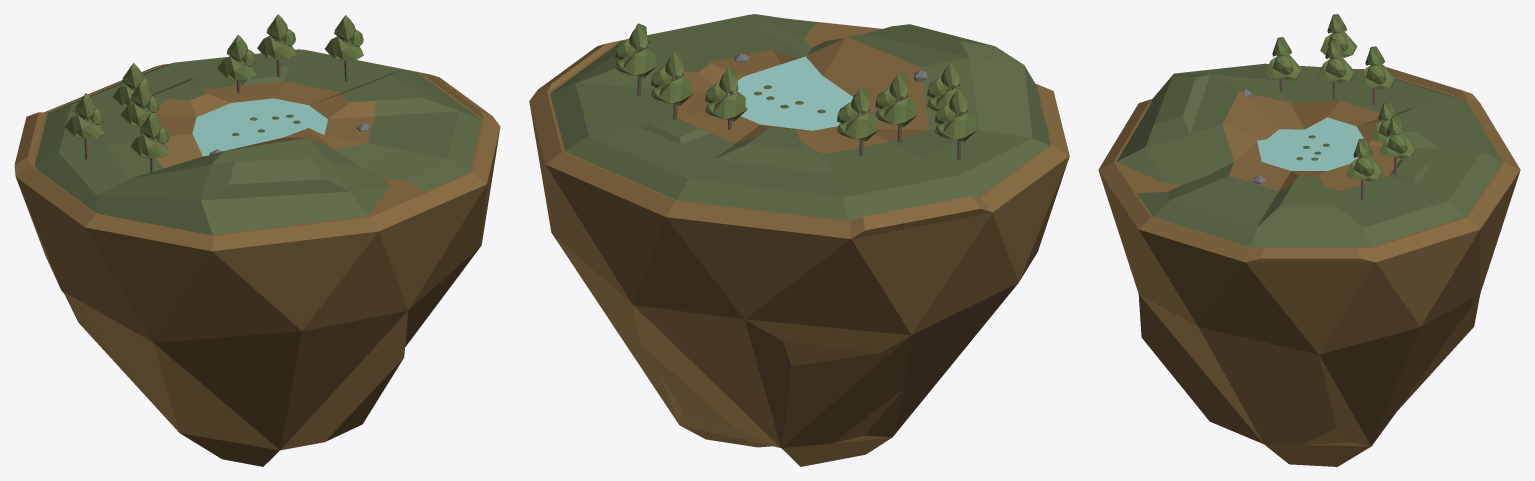
The model's file is swamp.glb.
3 renders of one model, left to right at view 1: azimuth 30°, elevation 25°; view 2: azimuth 150°, elevation 25°; view 3: azimuth 270°, elevation 25°, orthographic. The views are drawn at different scales.
Parts seen in each view (by area): view 1: planet, planet.001, Cylinder.004, Cylinder.006, Cylinder.003, Tree Type4 01 Model, Tree Type4 01 Model.002, Tree Type4 01 Model.001, Cylinder.005; view 2: planet, planet.001, Cylinder.006, Cylinder.004, Cylinder.005, Cylinder.003, Tree Type4 01 Model, Tree Type4 01 Model.001, Tree Type4 01 Model.002; view 3: planet, planet.001, Cylinder.005, Cylinder.004, Cylinder.003, Tree Type4 01 Model.002, Tree Type4 01 Model.001, Cylinder.006, Tree Type4 01 Model.
Boxes of the visible parts, x1=… form: planet: x1=14, y1=49, x2=500, y2=466; planet.001: x1=34, y1=49, x2=481, y2=235; Cylinder.004: x1=325, y1=15, x2=363, y2=81; Cylinder.006: x1=65, y1=93, x2=104, y2=159; Cylinder.003: x1=257, y1=14, x2=296, y2=77; Tree Type4 01 Model: x1=217, y1=34, x2=256, y2=80; Tree Type4 01 Model.002: x1=130, y1=112, x2=169, y2=158; Tree Type4 01 Model.001: x1=121, y1=81, x2=159, y2=126; Cylinder.005: x1=112, y1=63, x2=151, y2=107; planet: x1=529, y1=14, x2=1069, y2=466; planet.001: x1=550, y1=14, x2=1050, y2=220; Cylinder.006: x1=935, y1=88, x2=977, y2=160; Cylinder.004: x1=615, y1=23, x2=657, y2=96; Cylinder.005: x1=837, y1=87, x2=879, y2=155; Cylinder.003: x1=651, y1=51, x2=693, y2=119; Tree Type4 01 Model: x1=705, y1=67, x2=747, y2=121; Tree Type4 01 Model.001: x1=875, y1=72, x2=917, y2=126; Tree Type4 01 Model.002: x1=927, y1=61, x2=969, y2=110; planet: x1=1098, y1=67, x2=1520, y2=466; planet.001: x1=1116, y1=63, x2=1502, y2=247; Cylinder.005: x1=1358, y1=46, x2=1395, y2=104; Cylinder.004: x1=1346, y1=138, x2=1383, y2=200; Cylinder.003: x1=1379, y1=115, x2=1416, y2=174; Tree Type4 01 Model.002: x1=1265, y1=37, x2=1302, y2=80; Tree Type4 01 Model.001: x1=1318, y1=39, x2=1354, y2=83; Cylinder.006: x1=1320, y1=14, x2=1357, y2=57; Tree Type4 01 Model: x1=1371, y1=101, x2=1408, y2=142.
Size of the model in its own units: 2.8 by 2.45 by 2.62.
